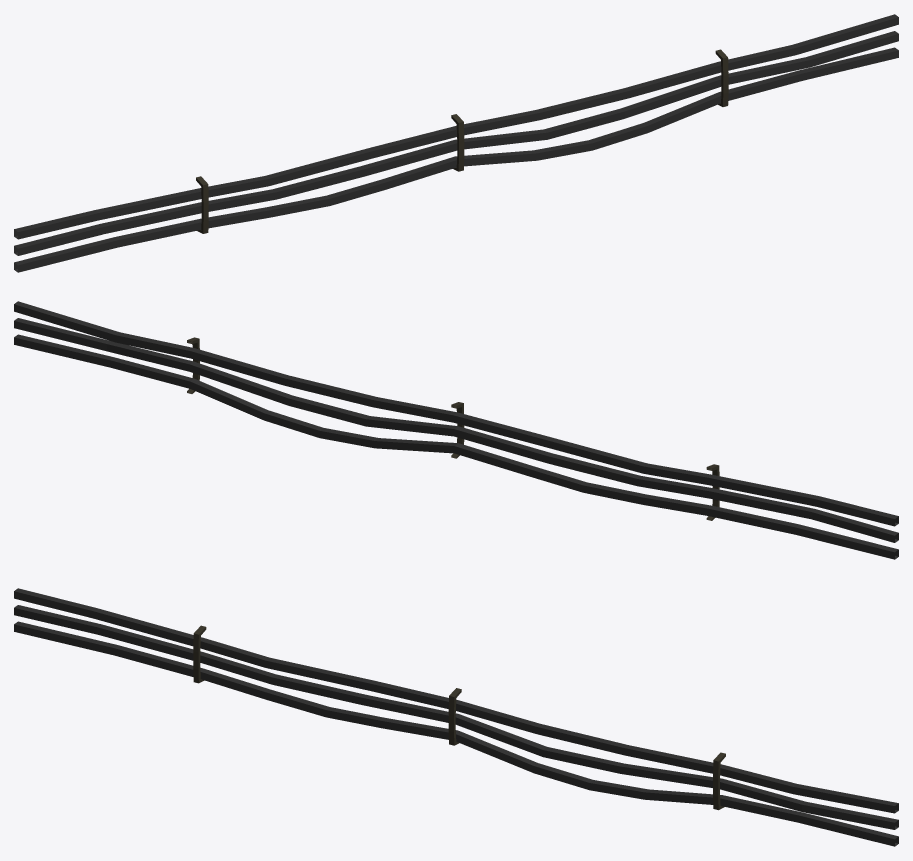
Rendered from SW_ENV_Wires3_FlatWall_05_05m.fbx.
3 renders of one model, top to bottom at view 1: azimuth 30°, elevation 25°; view 2: azimuth 150°, elevation 25°; view 3: azimuth 330°, elevation 25°, orthographic.
Parts seen in each view (by area): view 1: SW_ENV_Wires3_FlatWall_05_05m; view 2: SW_ENV_Wires3_FlatWall_05_05m; view 3: SW_ENV_Wires3_FlatWall_05_05m.
Part boxes in pixels (x1,y1,x2,y2): SW_ENV_Wires3_FlatWall_05_05m: [14, 14, 898, 272]; SW_ENV_Wires3_FlatWall_05_05m: [14, 301, 898, 559]; SW_ENV_Wires3_FlatWall_05_05m: [14, 588, 898, 846].
Size of the model in its own units: 500 by 35.68 by 7.57.
